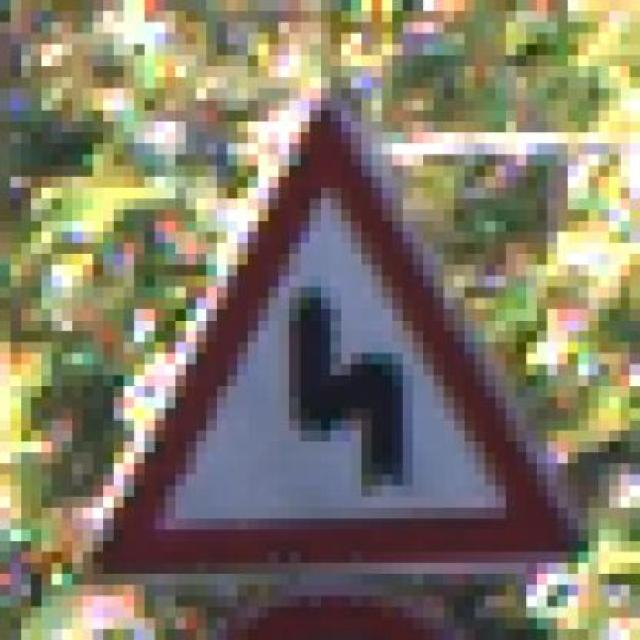Left Zig Zag Traffic: (93, 77, 589, 608)
